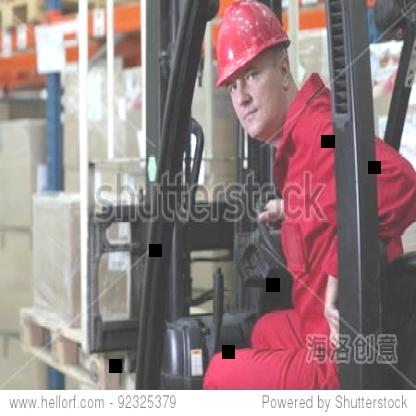helmet: (202, 0, 306, 148)
